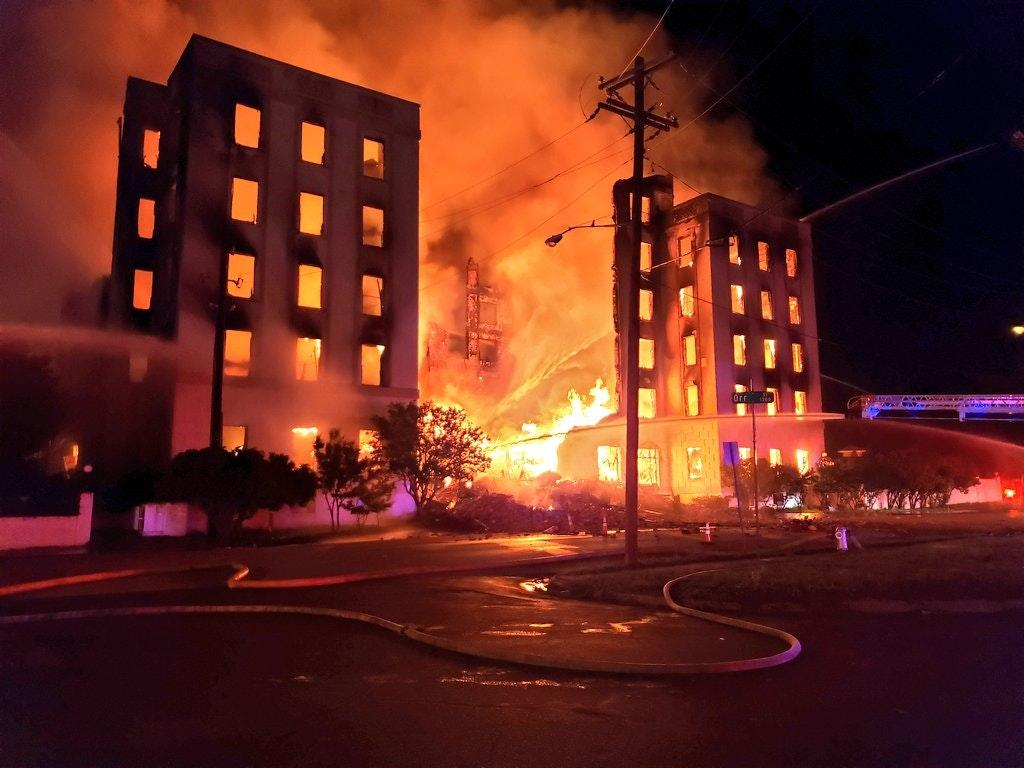Fire: (421, 300, 686, 489)
